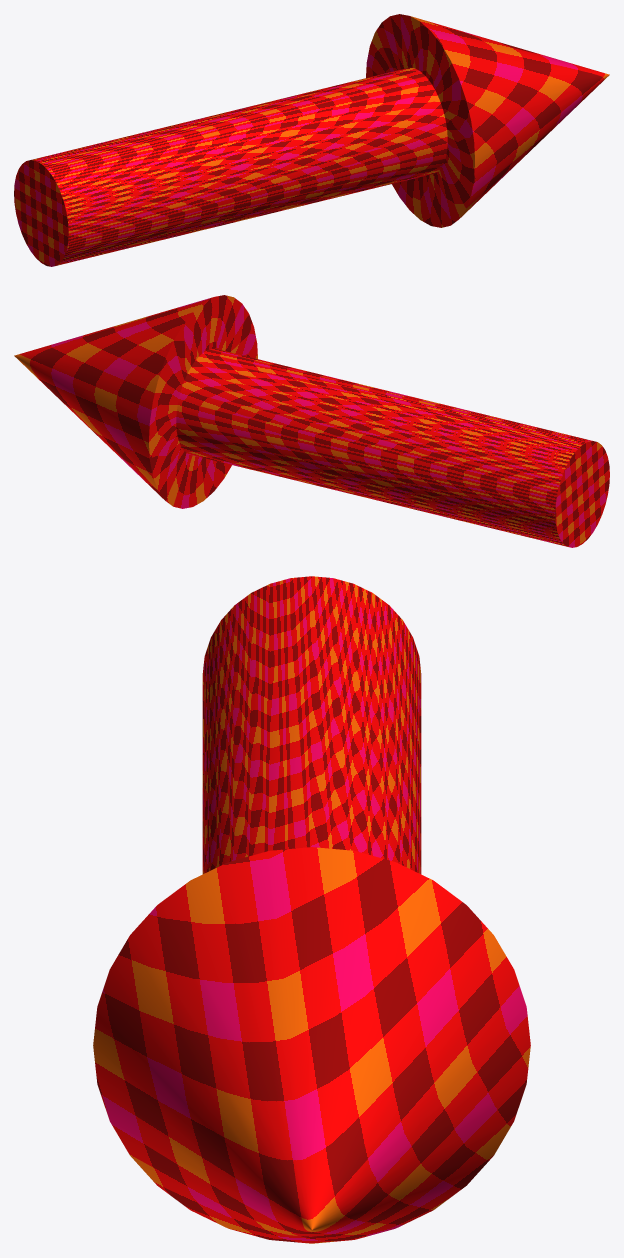
The model's file is 04_arrow.obj.
3 views of the same model, one above another, from view 1: azimuth 30°, elevation 25°; view 2: azimuth 150°, elevation 25°; view 3: azimuth 270°, elevation 25° (orthographic). The views are drawn at different scales.
Parts seen in each view (by area): view 1: Cylinder; view 2: Cylinder; view 3: Cylinder.
Part boxes in pixels (x1,y1,x2,y2): Cylinder: (14,14,609,266); Cylinder: (14,295,609,547); Cylinder: (93,576,530,1243).
Size of the model in its own units: 3 by 1 by 1.
